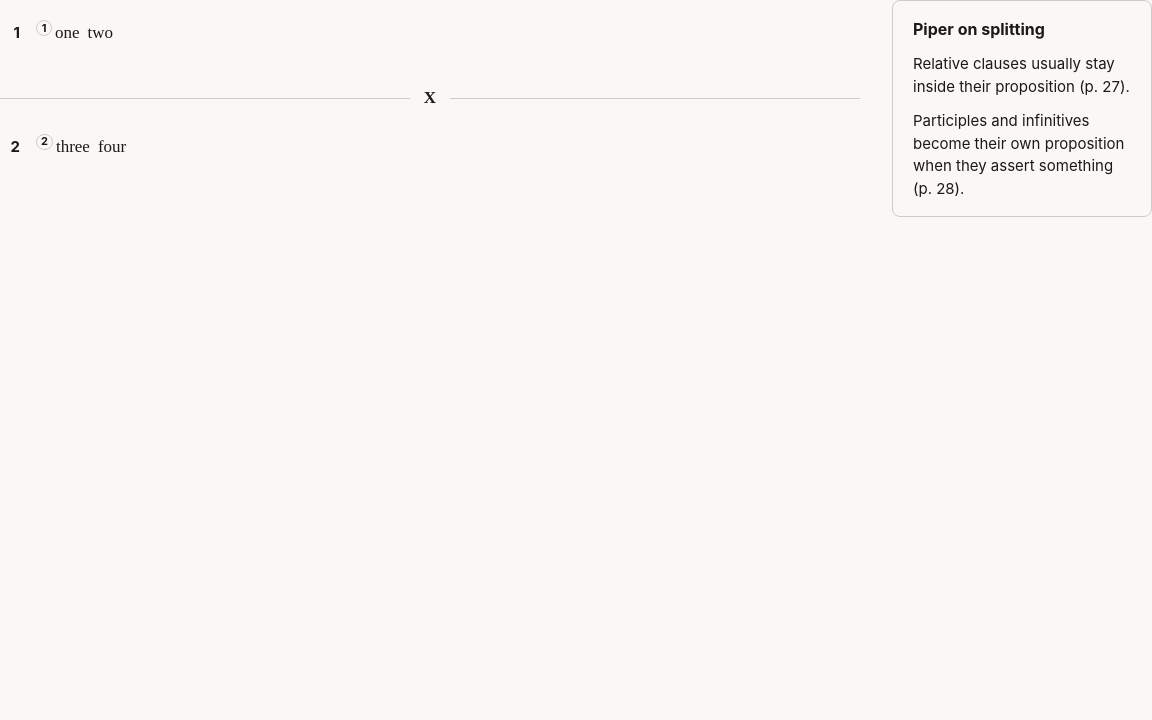
a rejoin that would dissolve arcs asks the same way
Click the button named "Rejoin proposition 2 into 1": [430, 98] box [0, 76, 860, 120]
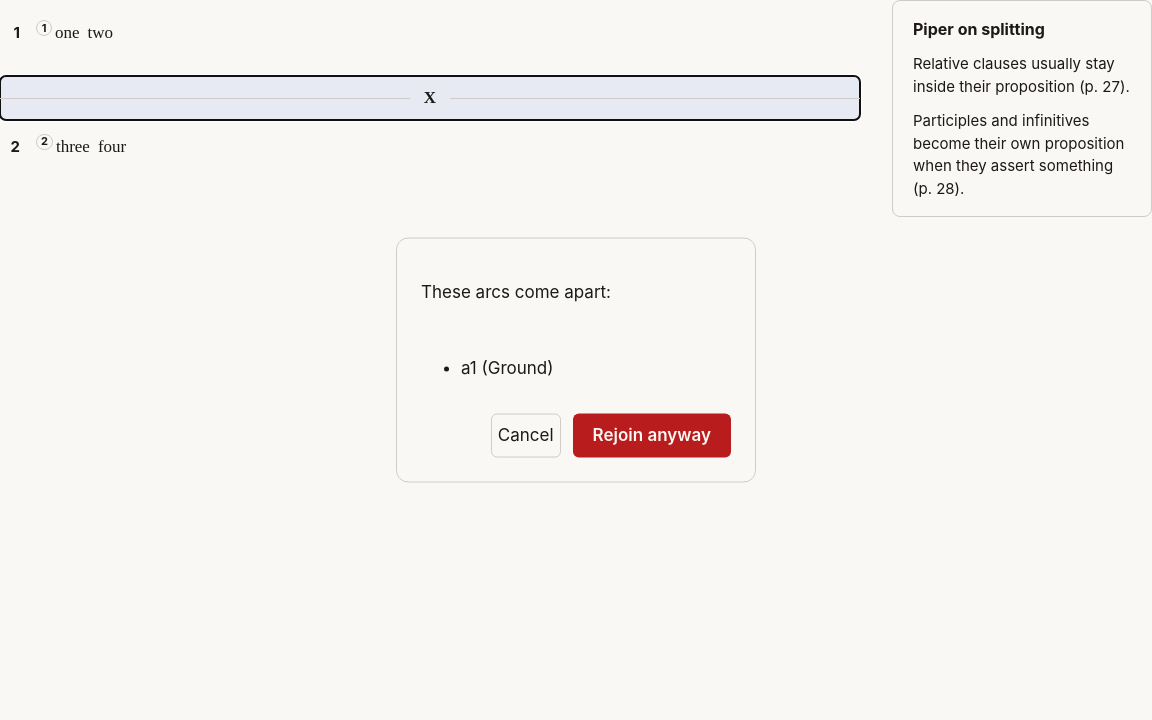
Expected: the dialog named "This dissolves arcs" shows "a1 (Ground)", [461, 357, 554, 377]
